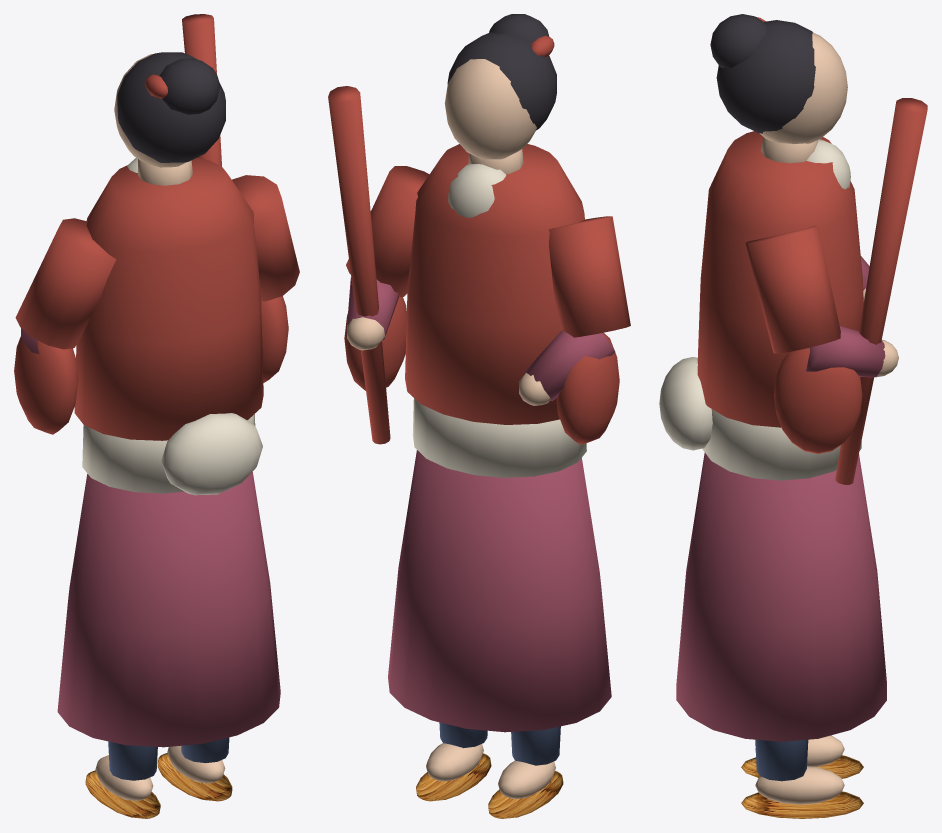
The model's file is edo_person_townswoman.glb.
3 renders of one model, left to right at view 1: azimuth 30°, elevation 25°; view 2: azimuth 150°, elevation 25°; view 3: azimuth 270°, elevation 25°, orthographic. The views are drawn at different scales.
Parts seen in each view (by area): view 1: person_upper, person_leg_l, person_leg_r; view 2: person_upper, person_leg_l, person_leg_r; view 3: person_upper, person_leg_r, person_leg_l.
Boxes of the visible parts, bbox=[...] form: person_upper: bbox=[14, 14, 299, 747]; person_leg_l: bbox=[85, 741, 160, 818]; person_leg_r: bbox=[157, 737, 232, 801]; person_upper: bbox=[328, 14, 630, 732]; person_leg_l: bbox=[488, 726, 563, 818]; person_leg_r: bbox=[416, 722, 491, 801]; person_upper: bbox=[659, 14, 927, 741]; person_leg_r: bbox=[741, 739, 863, 818]; person_leg_l: bbox=[741, 735, 863, 778].
Bounding box in the file's own units: 0.6278 × 1.65 × 0.5151.
7 materials, 1 textured.
